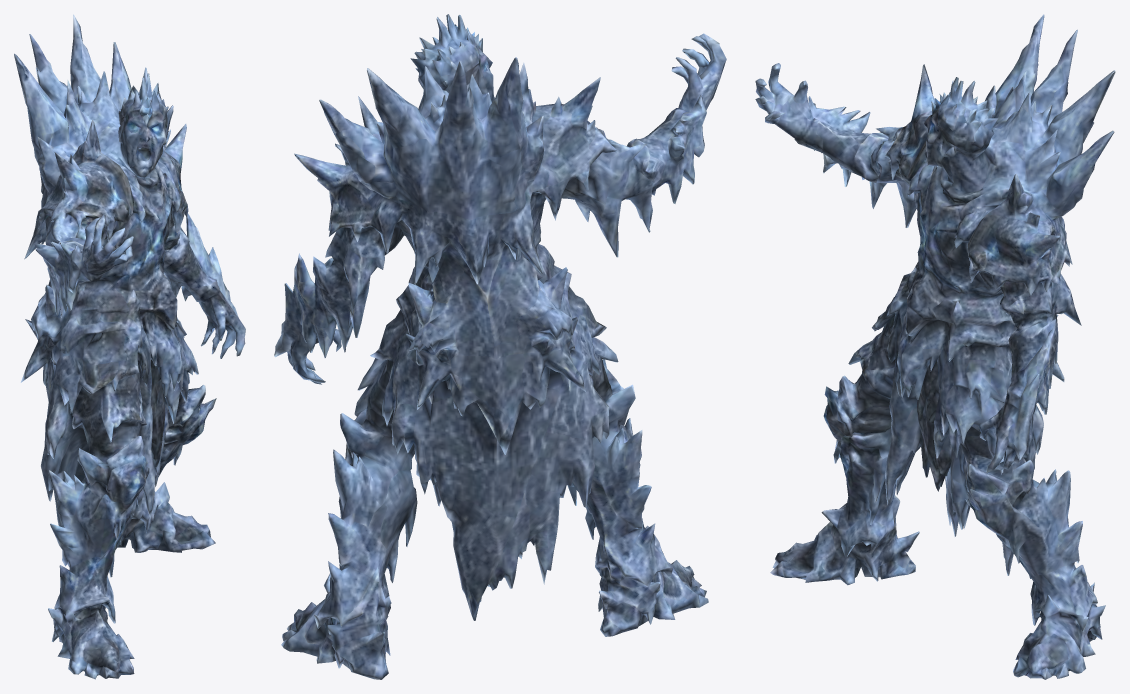
The model's file is ice_ice-statue.glb.
3 views of the same model, side by side, from view 1: azimuth 30°, elevation 25°; view 2: azimuth 150°, elevation 25°; view 3: azimuth 270°, elevation 25° (orthographic). The views are drawn at different scales.
Parts seen in each view (by area): view 1: tripo_node_e84652a3-48ab-4f1e-9d22-87db087dcaf8; view 2: tripo_node_e84652a3-48ab-4f1e-9d22-87db087dcaf8; view 3: tripo_node_e84652a3-48ab-4f1e-9d22-87db087dcaf8.
Boxes of the visible parts, <box> form: tripo_node_e84652a3-48ab-4f1e-9d22-87db087dcaf8: <box>14,14,245,679</box>; tripo_node_e84652a3-48ab-4f1e-9d22-87db087dcaf8: <box>274,14,726,679</box>; tripo_node_e84652a3-48ab-4f1e-9d22-87db087dcaf8: <box>755,14,1115,679</box>.
Bounding box in the file's own units: 0.5338 × 0.9826 × 0.5647.
1 material, 1 textured.
